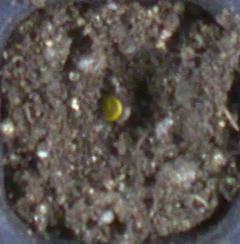chilli seed: (104, 97, 122, 121)
